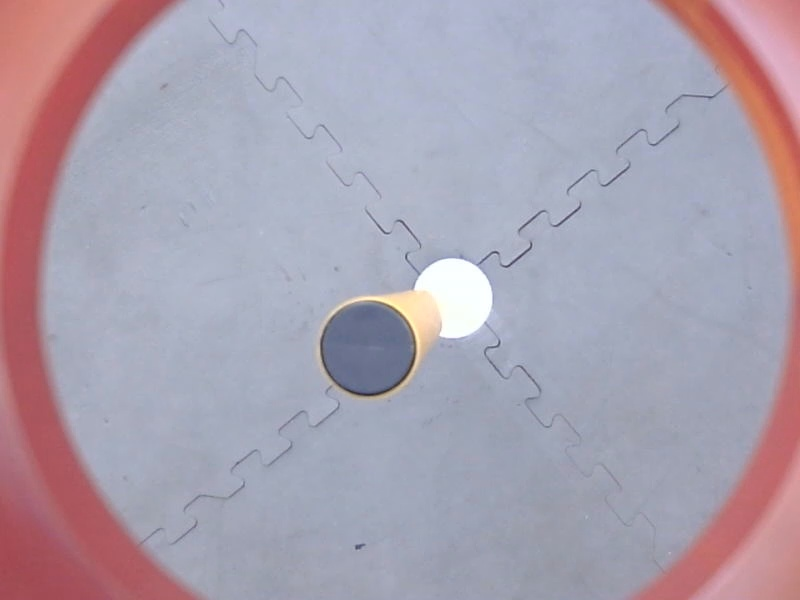tip: (310, 289, 427, 405)
